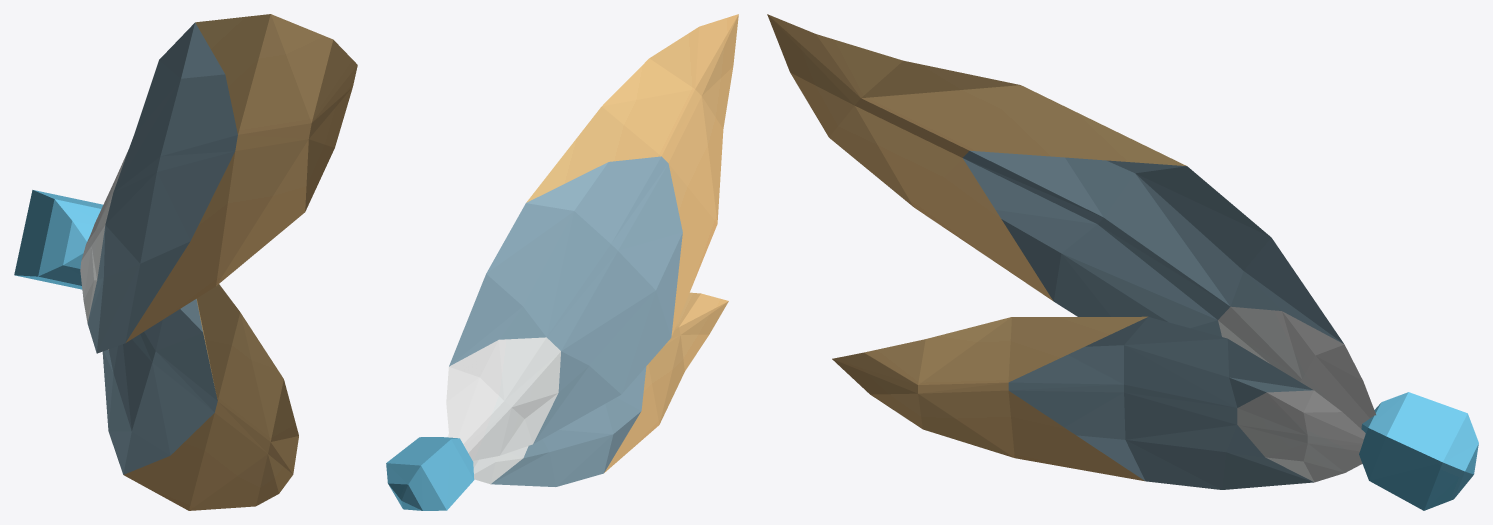
The model's file is CharSkyKid_Horn_AP12SideFeather_01.glb.
3 renders of one model, left to right at view 1: azimuth 30°, elevation 25°; view 2: azimuth 150°, elevation 25°; view 3: azimuth 270°, elevation 25°, orthographic. The views are drawn at different scales.
Visible parts, largest first — view 1: CharSkyKid_Horn_AP12SideFeather_01; view 2: CharSkyKid_Horn_AP12SideFeather_01; view 3: CharSkyKid_Horn_AP12SideFeather_01.
Boxes of the visible parts, box(x1,y1,x2,y2) form: CharSkyKid_Horn_AP12SideFeather_01: box(14, 14, 357, 510); CharSkyKid_Horn_AP12SideFeather_01: box(386, 14, 738, 510); CharSkyKid_Horn_AP12SideFeather_01: box(767, 14, 1478, 510).
Bounding box in the file's own units: 0.534 × 1.3 × 1.77.
Materials: 1 (1 with a texture image).
